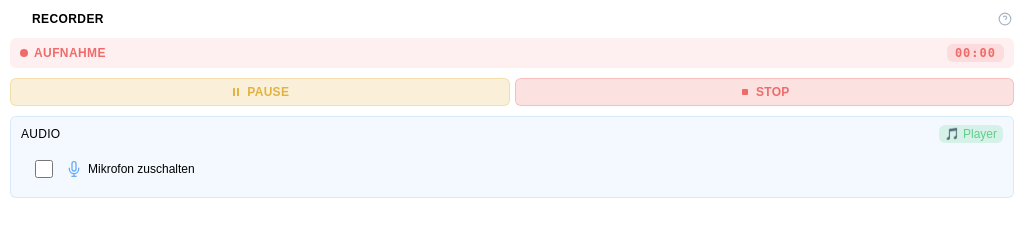
Test: RecorderPanel – Mikrofon während der Aufnahme › schaltet das Mikrofon über die Audio-Engine zu
The image size is (1024, 249).
Expected: the element with class "source-indicator" does not show "Mic"
What coordinates should you click on to do the following:
click the checkbox labelled "Mikrofon zuschalten"
I would click on:
 (44, 169)
Its box is [35,160,53,178].
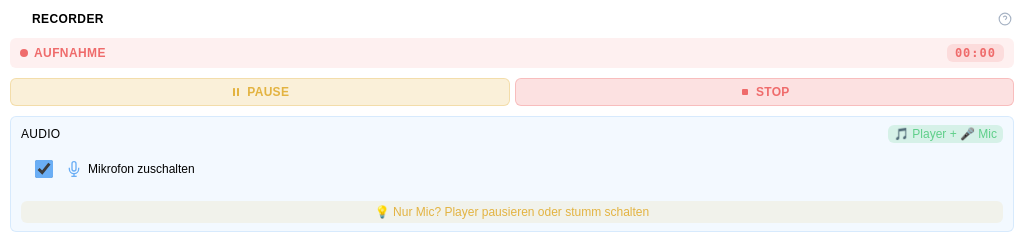
Expected: the text with class "source-indicator" shows "Mic", [894,127,997,141]
Expected: the text with class "info" reads "💡 Nur Mic? Player pausieren oder stumm schalten", [375,205,649,219]
